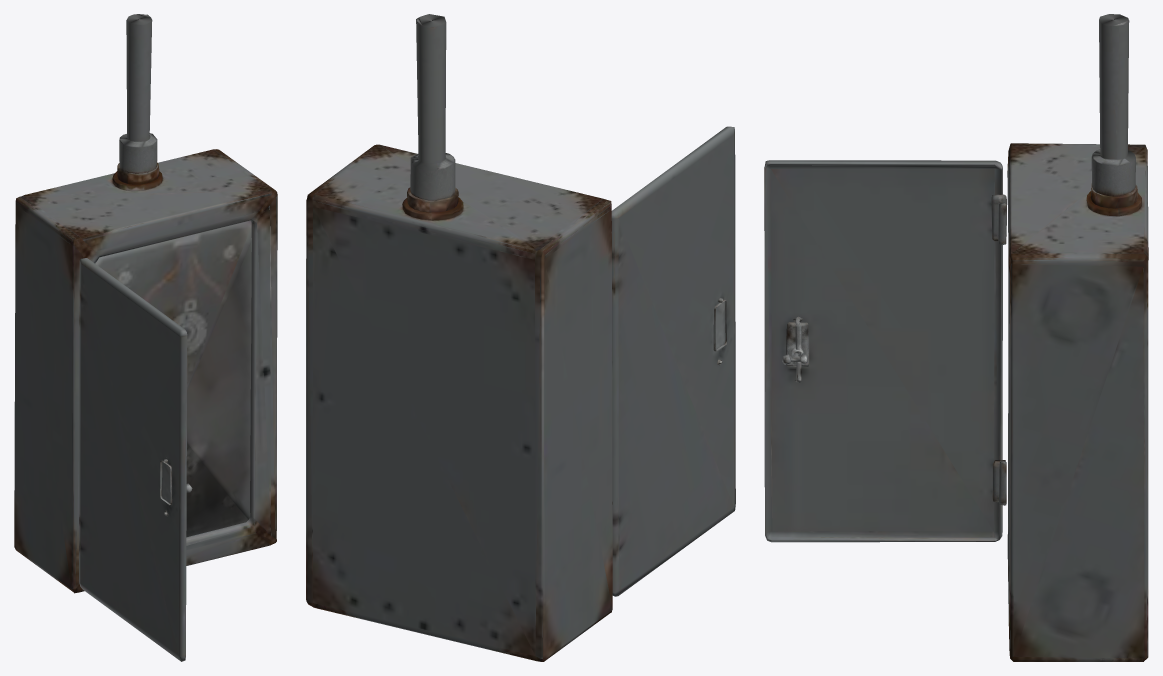
Rendered from fusebox.glb.
3 renders of one model, left to right at view 1: azimuth 30°, elevation 25°; view 2: azimuth 150°, elevation 25°; view 3: azimuth 270°, elevation 25°, orthographic. The views are drawn at different scales.
Size of the model in its own units: 0.4211 by 1 by 0.5888.
1 material, 1 textured.
